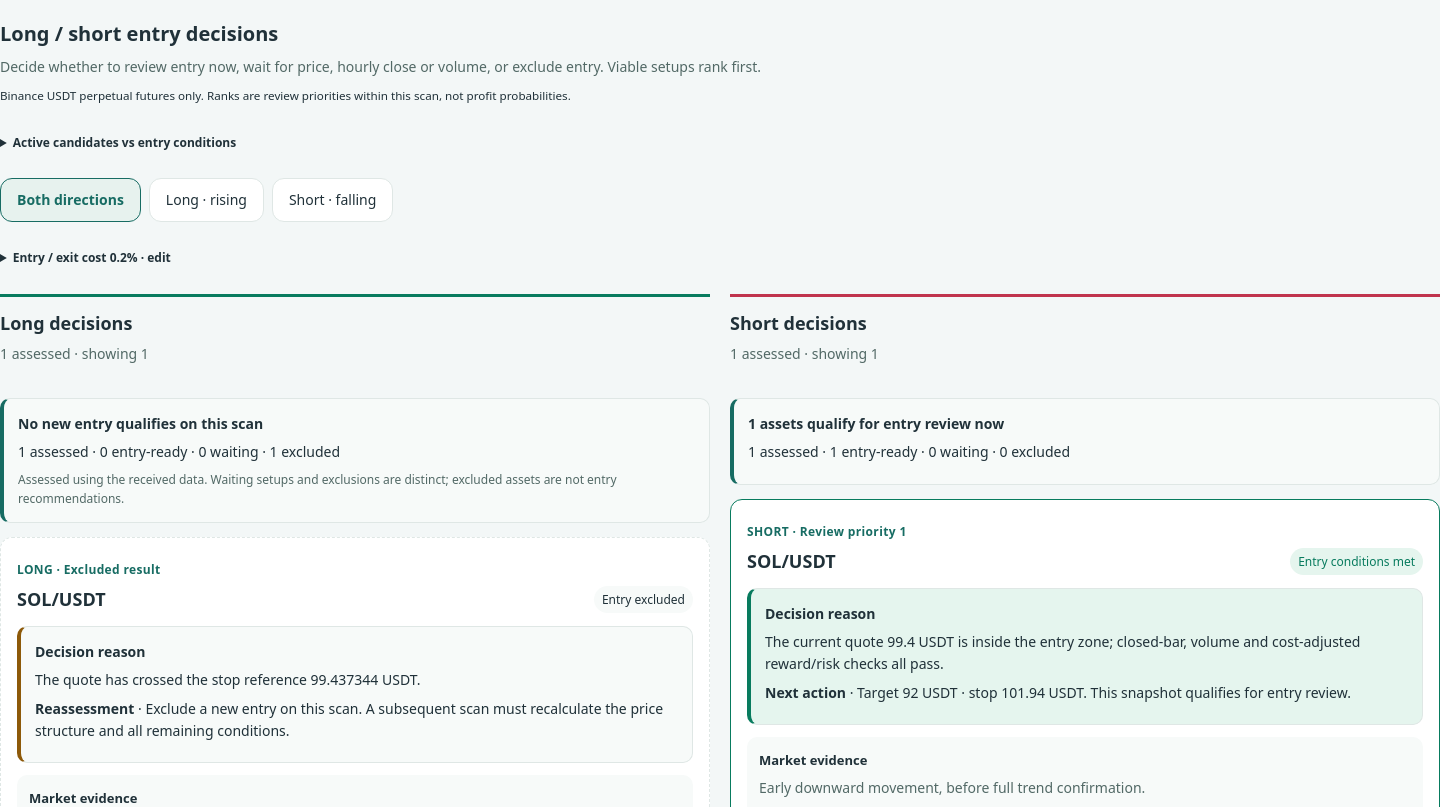
Test case: recalculates when cost changes and never shows a candidate with an invalid cost
Clear the number field labelled "Entry / exit cost 0.2% · edit": (92, 258) [13,249,171,266]
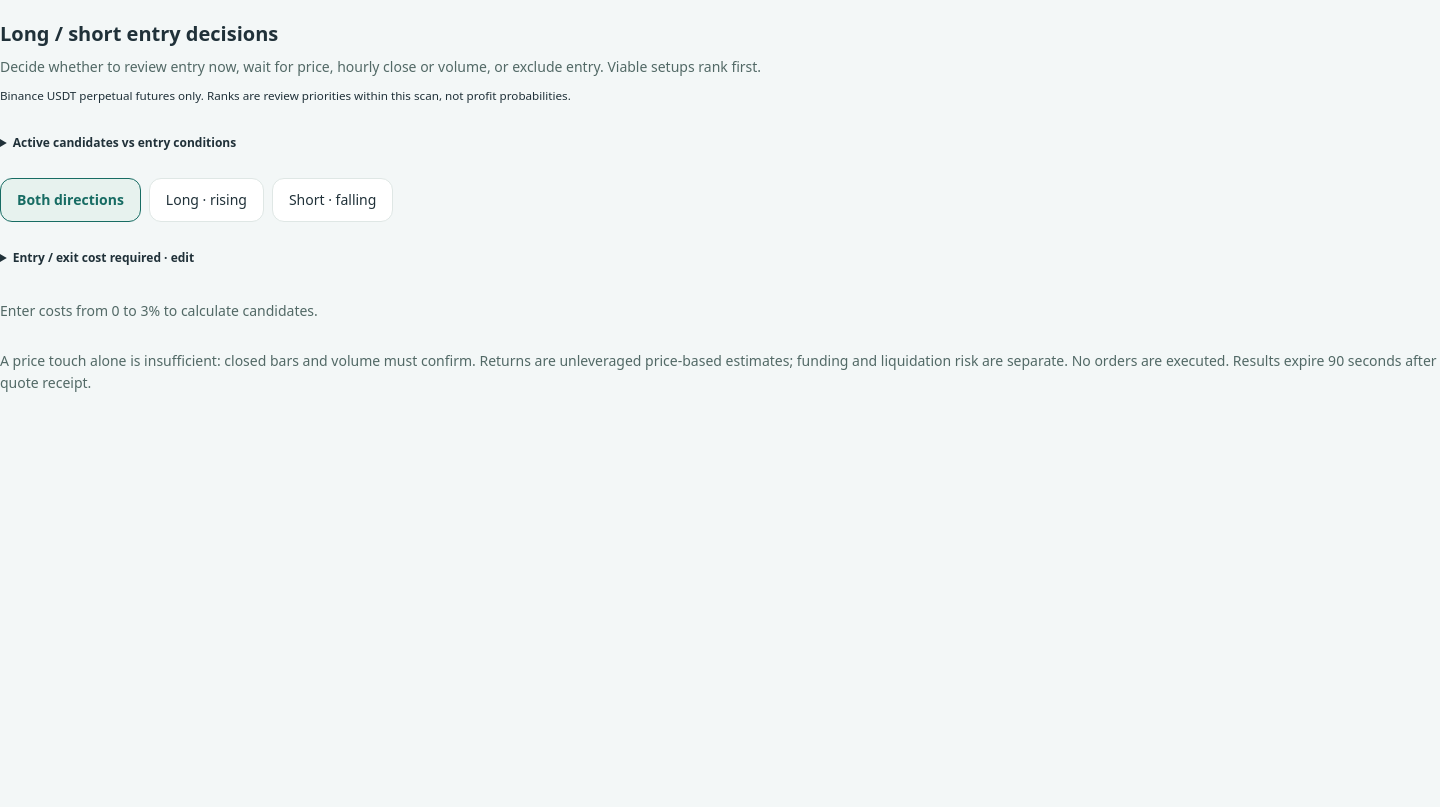
Result: the message "Enter costs from 0 to 3% to calculate candidates." is shown at [0,300,318,320]
Result: the text "Entry conditions met" is gone
